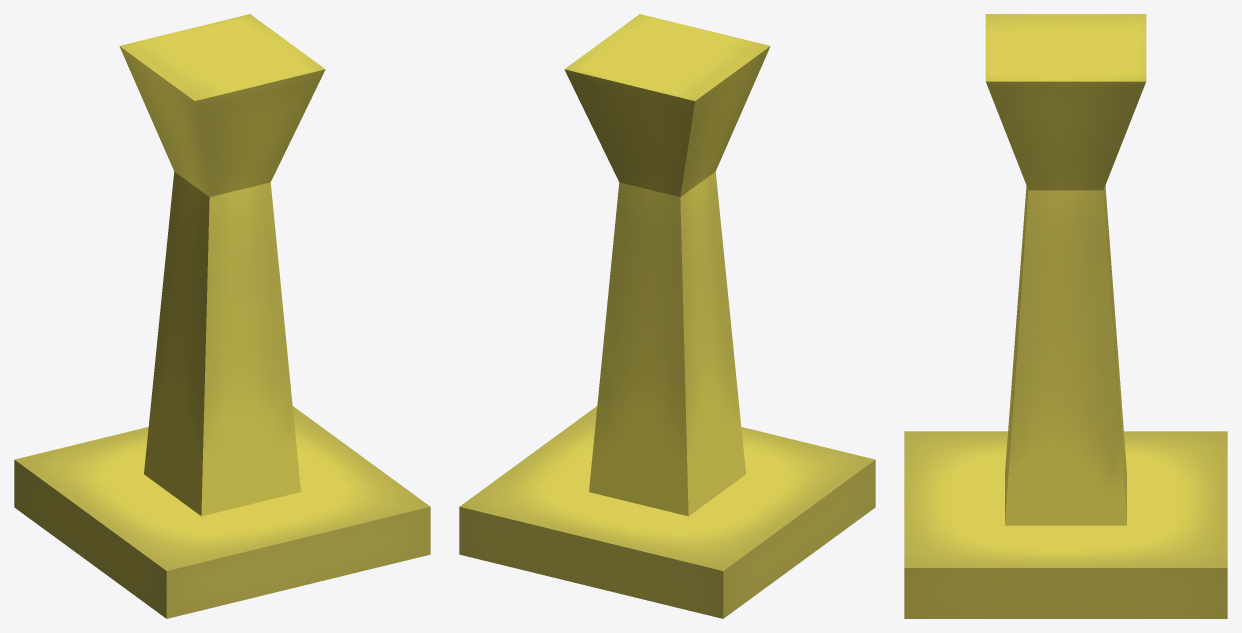
Rendered from wire_stand.fbx.
The picture shows the model from 3 angles, left to right: view 1: azimuth 30°, elevation 25°; view 2: azimuth 150°, elevation 25°; view 3: azimuth 270°, elevation 25°; orthographic projection. The views are drawn at different scales.
Parts seen in each view (by area): view 1: wire_stand; view 2: wire_stand; view 3: wire_stand.
Part boxes in pixels (<box>): wire_stand: <box>14,14,430,618</box>; wire_stand: <box>459,14,875,618</box>; wire_stand: <box>904,14,1227,618</box>.
Bounding box in the file's own units: 200 × 343 × 200.
